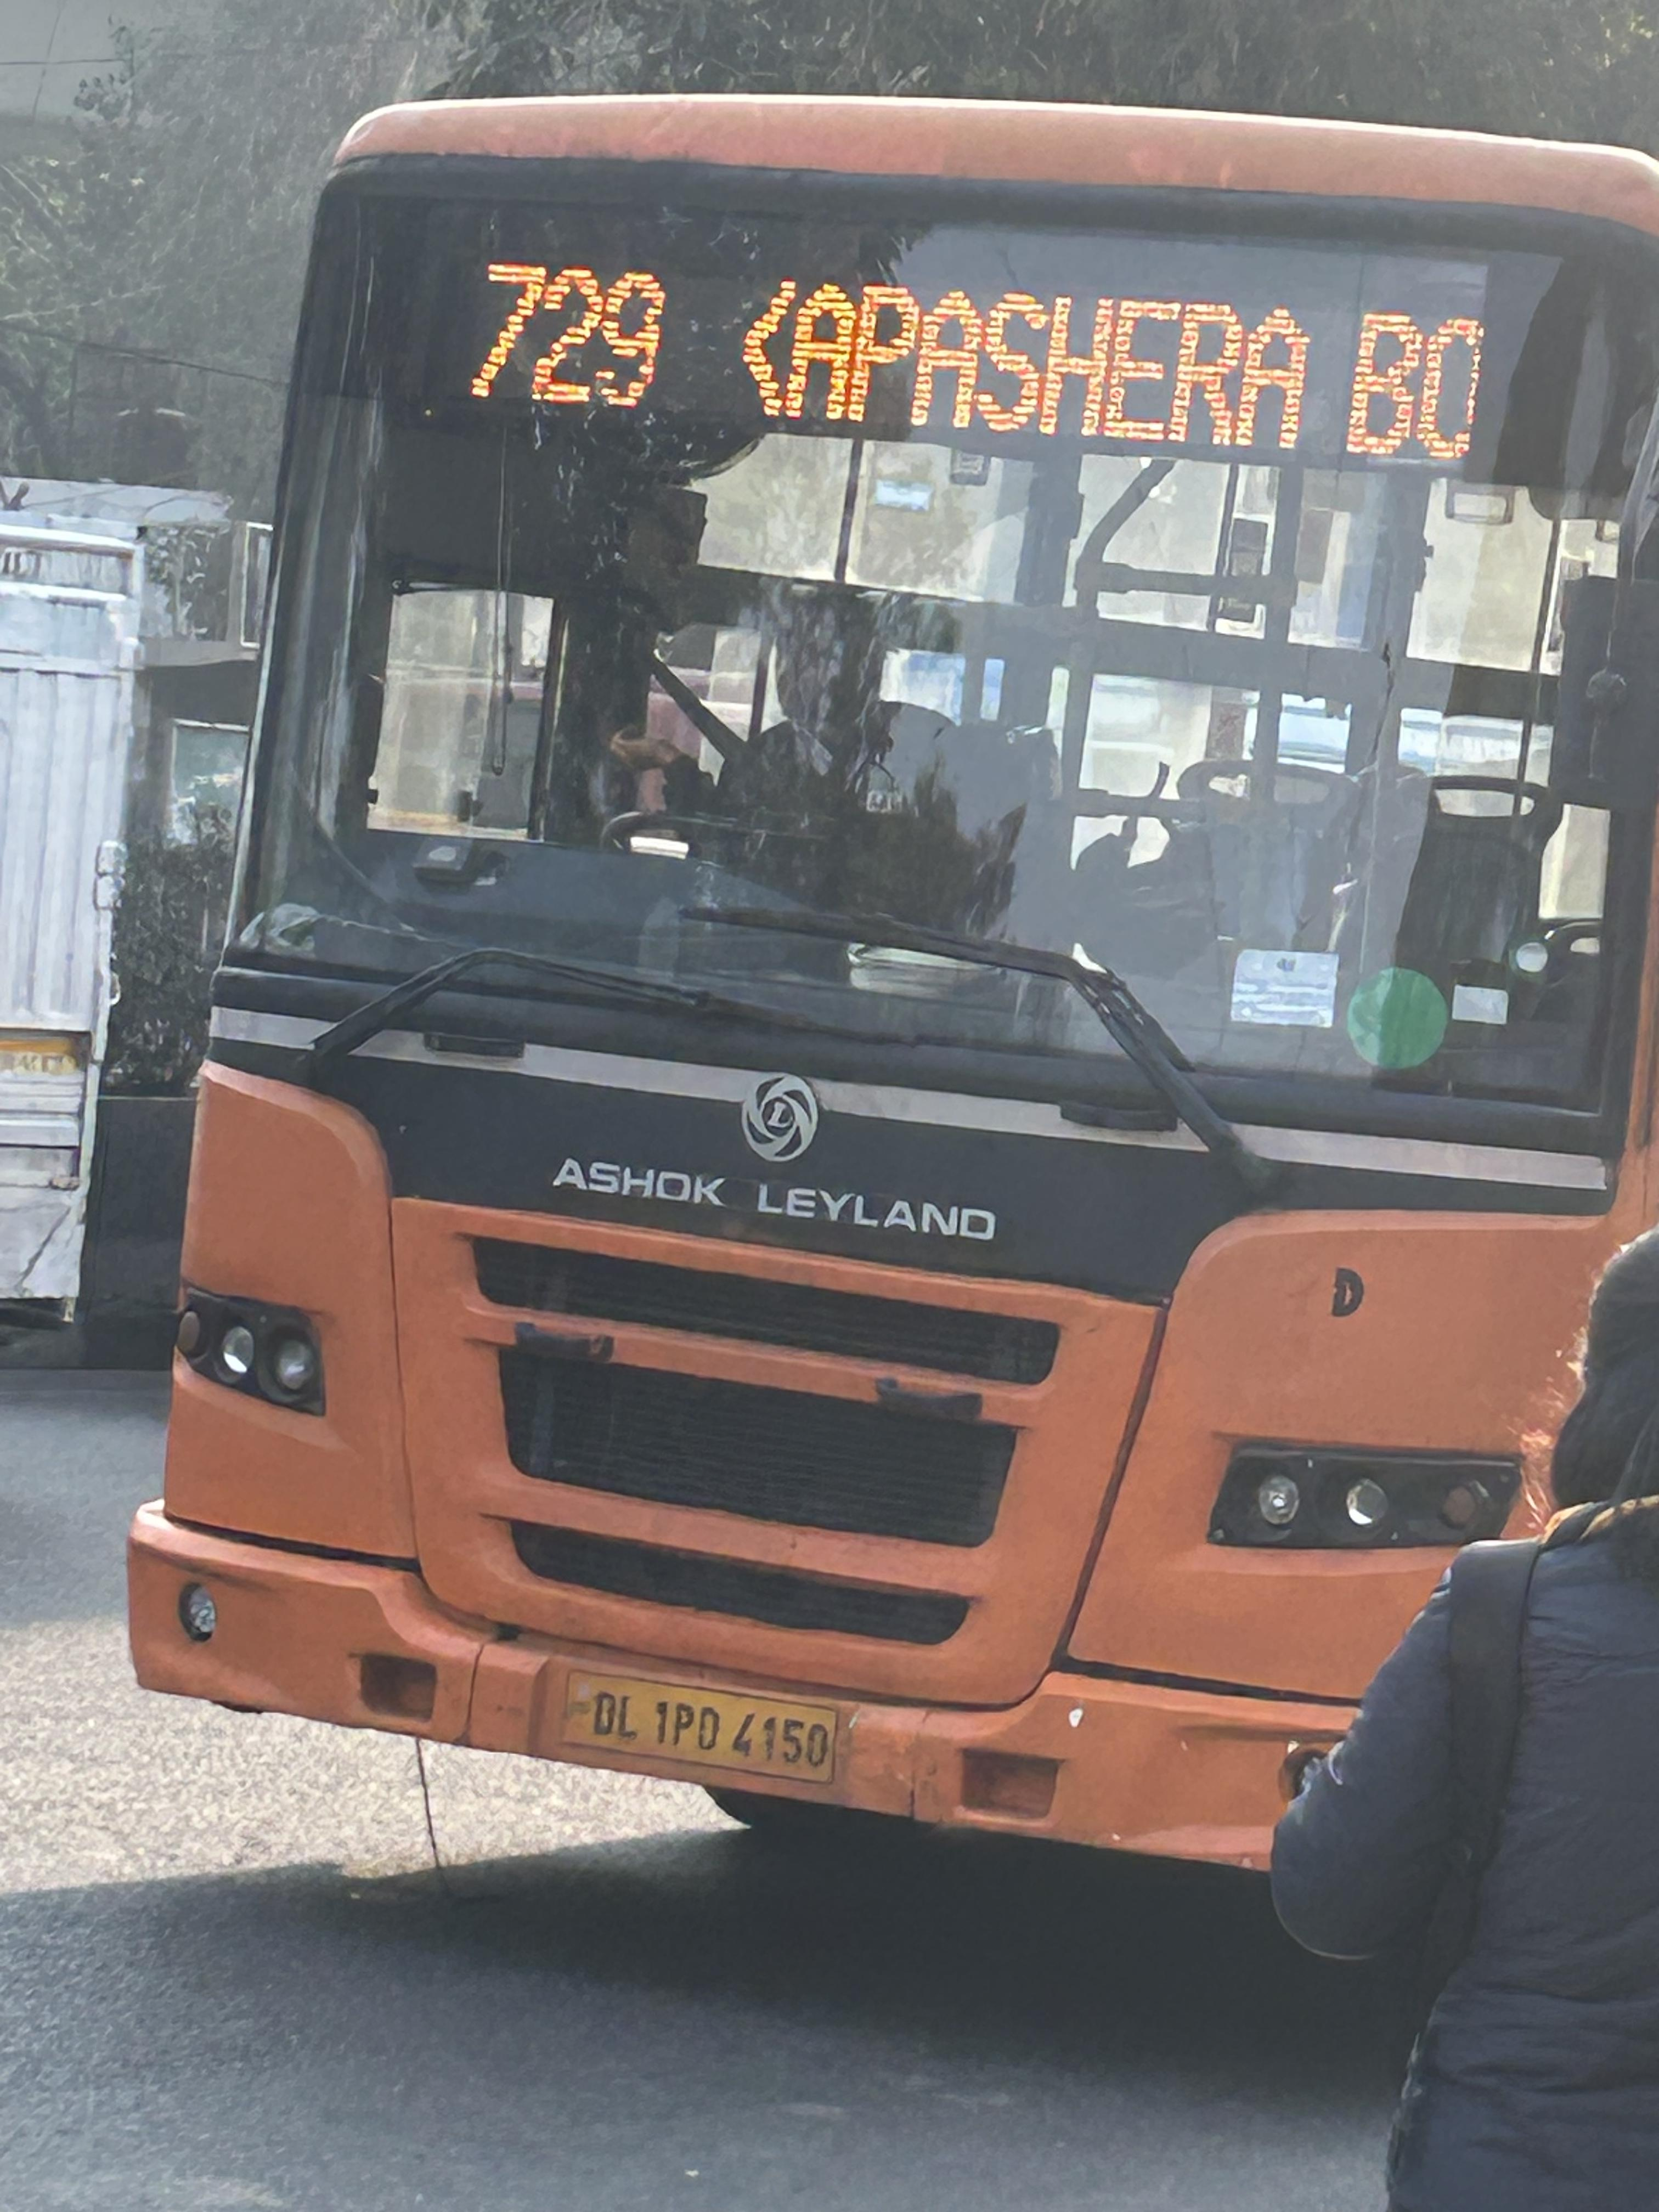Bus: (110, 99, 1659, 1849)
Display Board: (307, 126, 1659, 483)
License Plate: (538, 1679, 966, 1805)
